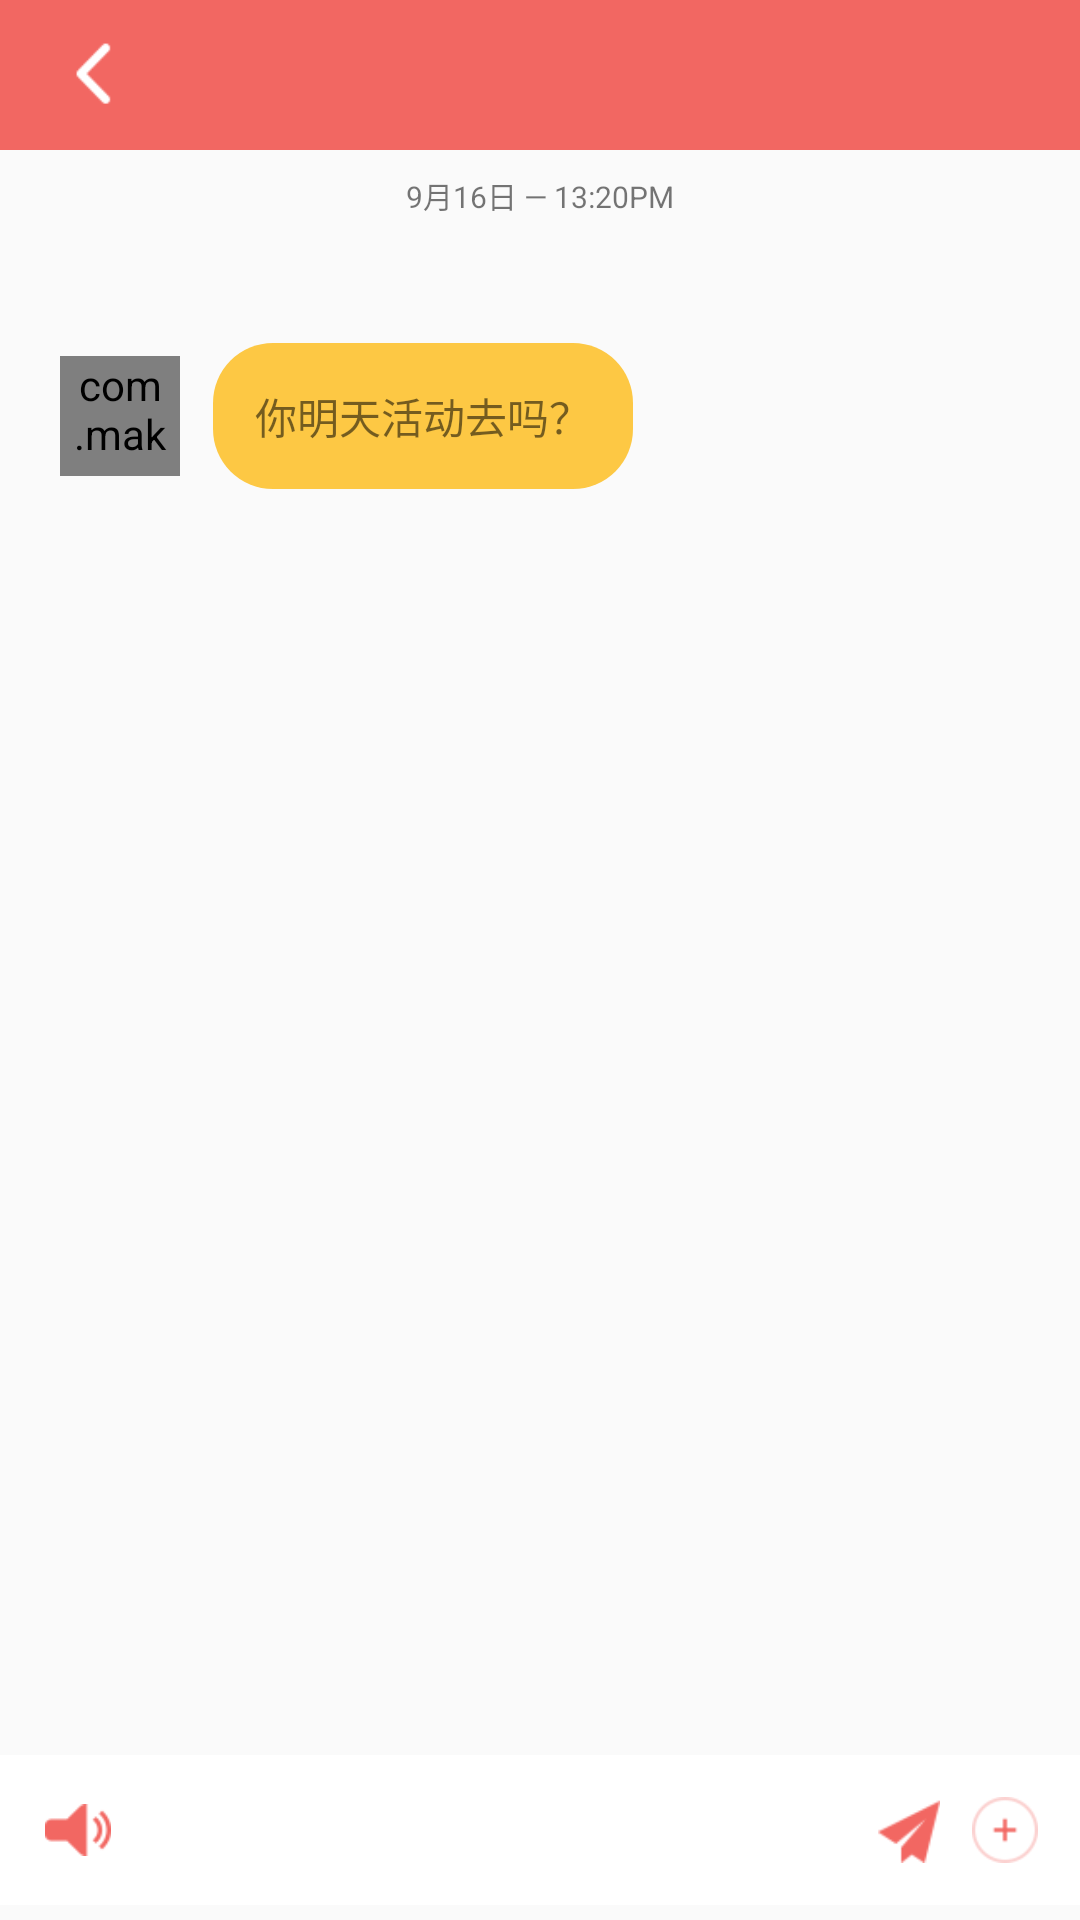

Locate icon controls on the screen. Image size 1080x1920, boxes as BBox(x1, y1, x2, y2).
add: BBox(972, 1797, 1038, 1863)
laba: BBox(45, 1804, 111, 1856)
send: BBox(878, 1800, 940, 1863)
